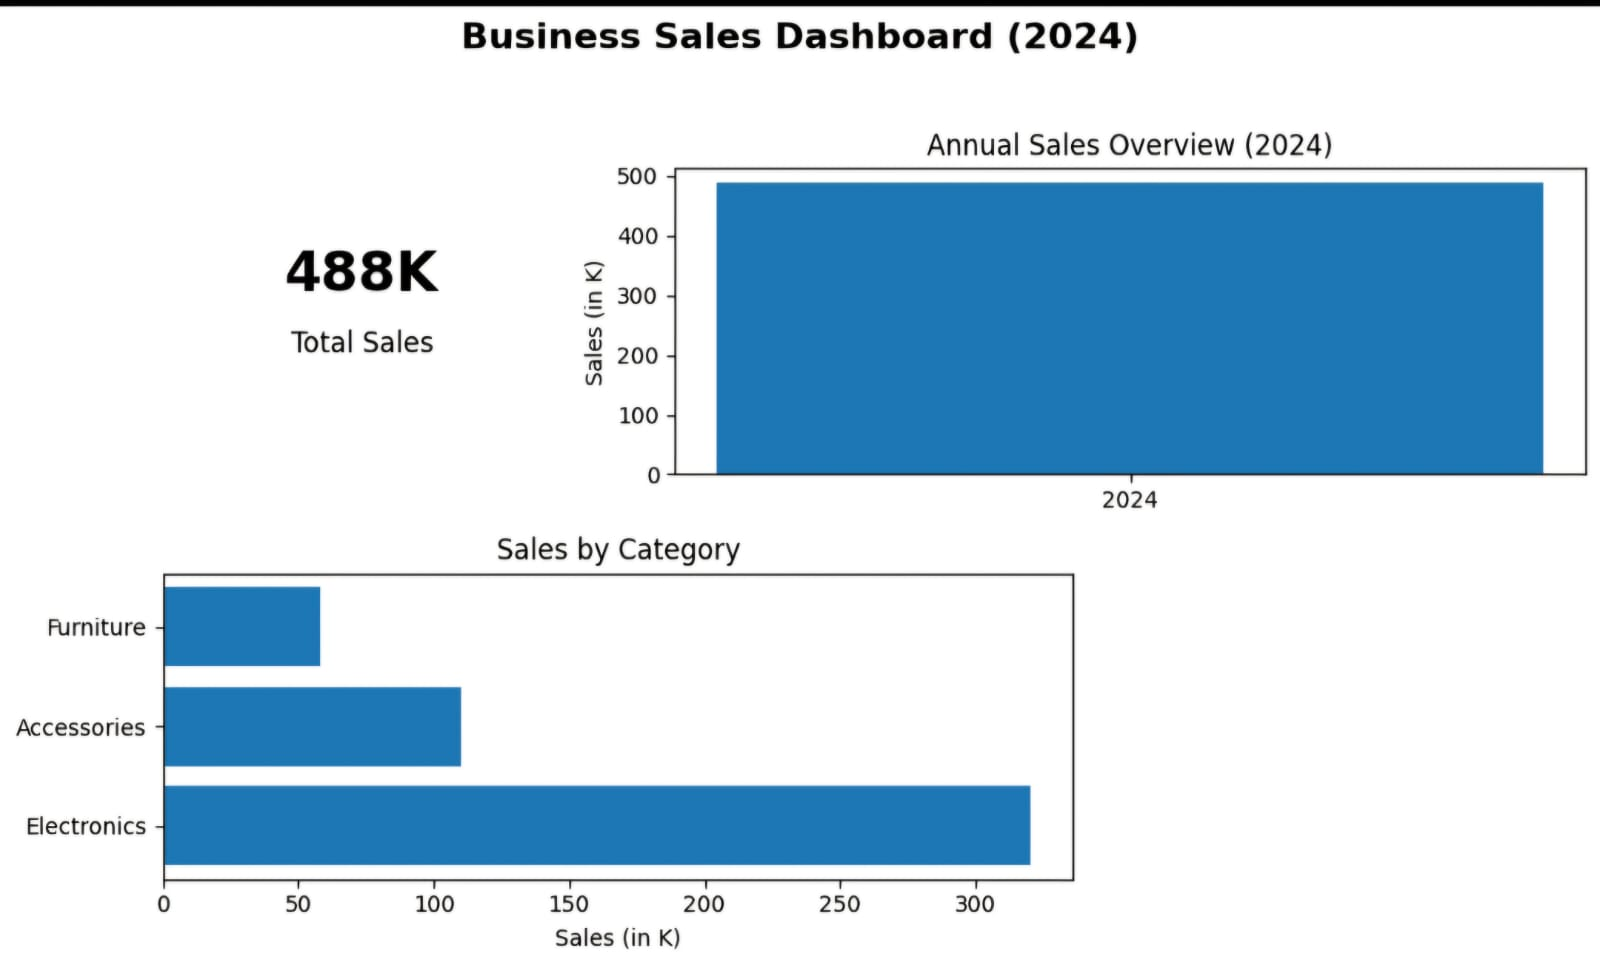

The page's visual inventory and layout, read from the dashboard file:
{"tool":"powerbi","page":{"name":"Page 1","canvas":[1280,720],"ordinal":0},"visuals":[{"type":"card","fields":{"Values":["Sum(Sheet1.Sales)"]},"box":[78.8,47.5,400.9,299],"z":0},{"type":"barChart","fields":{"Y":["Sum(Sheet1.Sales)"],"Category":["Sheet1.Category"]},"box":[79,357,401,299],"z":1},{"type":"lineChart","fields":{"Category":["Sheet1.Order_Date.Variation.Date Hierarchy.Year","Sheet1.Order_Date.Variation.Date Hierarchy.Quarter","Sheet1.Order_Date.Variation.Date Hierarchy.Month","Sheet1.Order_Date.Variation.Date Hierarchy.Day"],"Y":["Sum(Sheet1.Sales)"]},"box":[490,48,401,299],"z":2}]}

Visuals, with their boxes on the page's 1280x720 design canvas (x1, y1, x2, y2). These are canvas units, not pixel positions in the 1600x965 screenshot, which may show the page scaled, cropped or inside an application window:
card - Sum(Sheet1.Sales): x1=79, y1=48, x2=480, y2=346
barChart - Sum(Sheet1.Sales) x Sheet1.Category: x1=79, y1=357, x2=480, y2=656
lineChart - Sheet1.Order_Date.Variation.Date Hierarchy.Year x Sheet1.Order_Date.Variation.Date Hierarchy.Quarter: x1=490, y1=48, x2=891, y2=347
